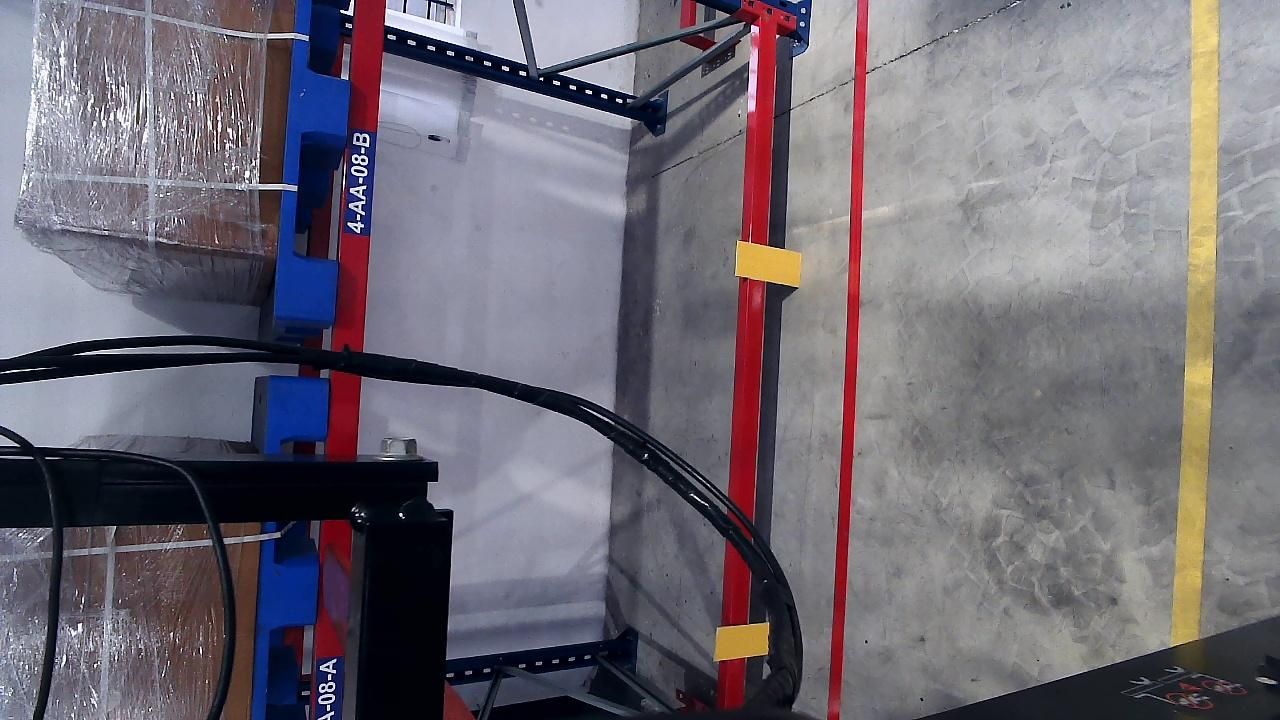h_rack: (331, 1, 388, 715), (726, 10, 780, 617)
orange_strip: (735, 241, 801, 287), (715, 622, 771, 660)
red_line: (833, 10, 868, 715)
small_pallet: (267, 1, 362, 327), (258, 374, 325, 720)
yellow_line: (1172, 0, 1221, 655)
